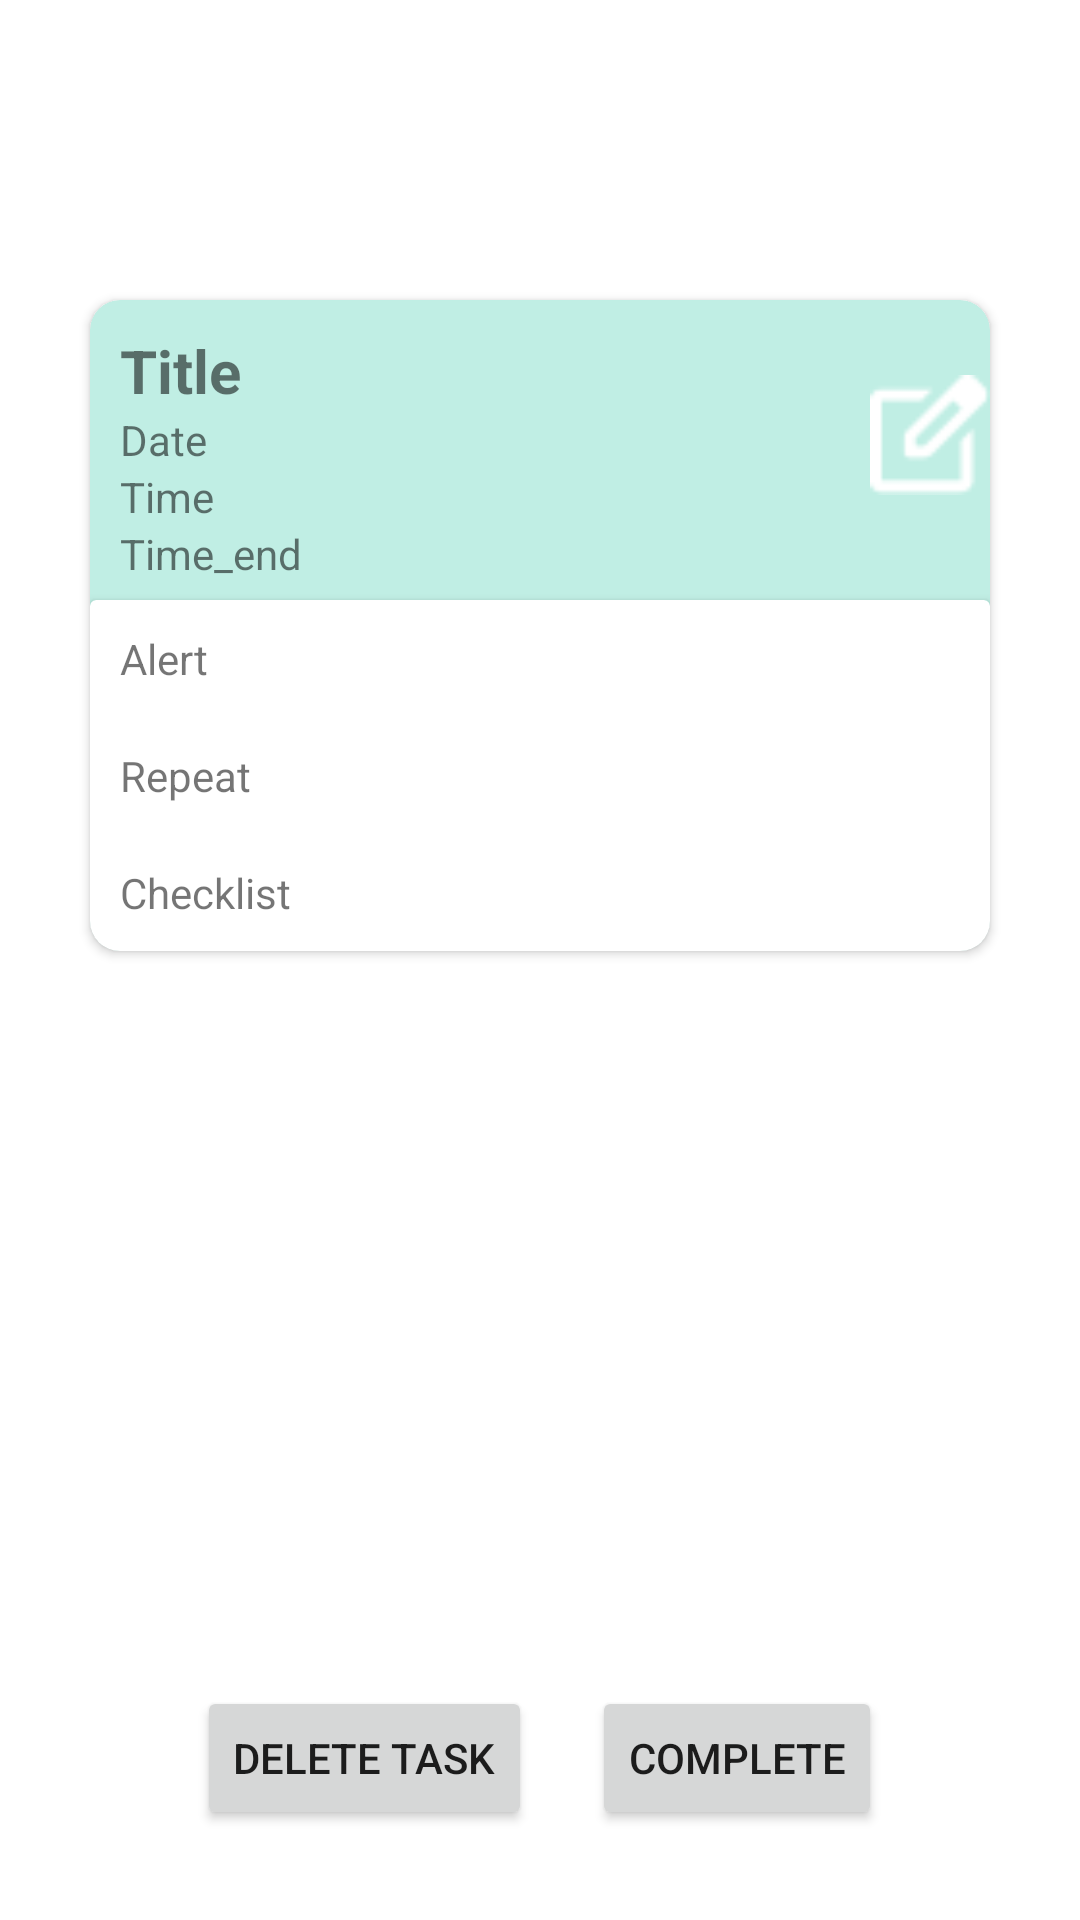

Locate icon controls on the screen. Image size 1080x1920, boxes as (x1, y1, x2, y2).
changetask: (870, 375, 987, 492)
